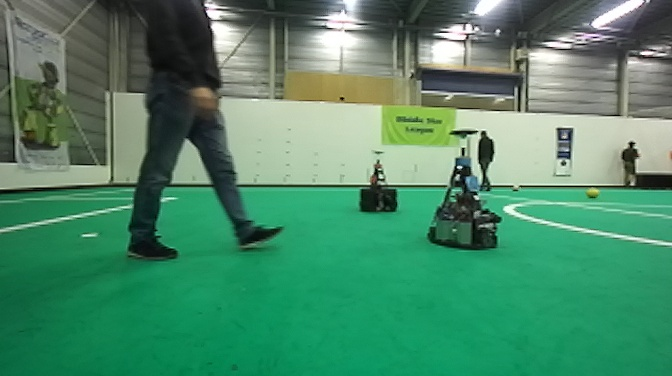ball: (586, 184, 601, 200), (510, 182, 521, 192)
human: (127, 1, 287, 261), (619, 132, 642, 190), (477, 128, 495, 193)
robot: (425, 129, 503, 253), (358, 150, 399, 214)
